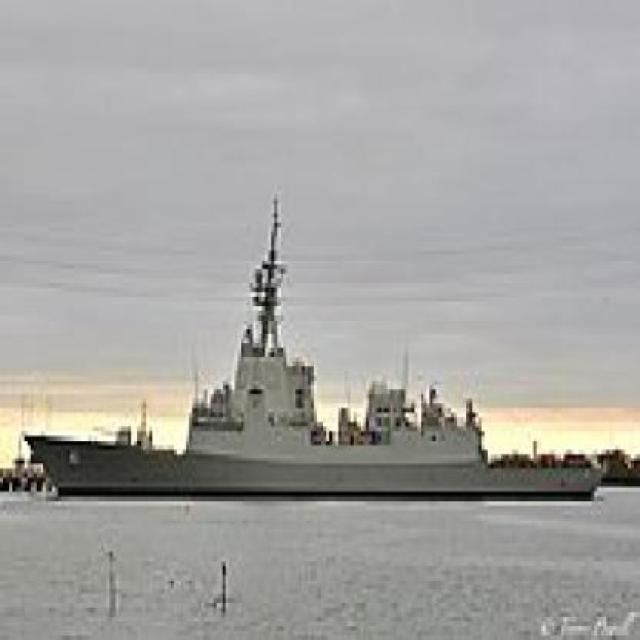warship2: (22, 196, 599, 511)
